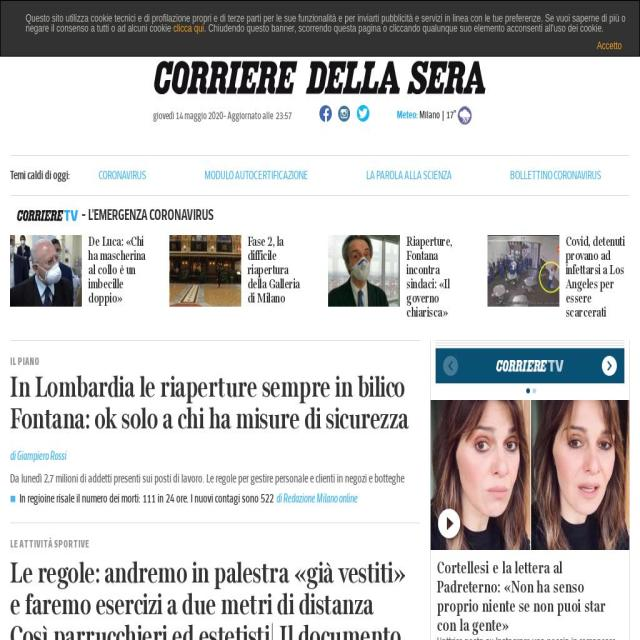button: (430, 400, 630, 550), (146, 59, 494, 101), (328, 235, 401, 307), (10, 235, 82, 307), (169, 235, 241, 307), (487, 235, 559, 307), (10, 492, 358, 506), (204, 167, 309, 184), (509, 167, 602, 184), (366, 167, 452, 184), (151, 0, 184, 34), (88, 0, 116, 34), (312, 7, 362, 26), (380, 7, 423, 26), (99, 167, 147, 184), (252, 7, 294, 26), (635, 400, 640, 550), (557, 7, 592, 26), (202, 7, 234, 26), (27, 7, 52, 26), (442, 7, 466, 26), (592, 39, 626, 52), (501, 7, 524, 26), (627, 7, 640, 25)
heading: (10, 402, 409, 436), (10, 556, 406, 590), (10, 370, 405, 404), (437, 558, 606, 635), (10, 588, 374, 622), (10, 619, 269, 640), (565, 234, 624, 320), (88, 234, 146, 306), (406, 234, 453, 320), (274, 619, 400, 640), (247, 234, 289, 278), (247, 276, 300, 292), (247, 291, 285, 306), (269, 619, 275, 640)
image: (430, 400, 630, 550), (146, 59, 494, 96), (328, 235, 401, 307), (10, 235, 82, 307), (169, 235, 241, 307), (487, 235, 559, 307), (17, 209, 82, 222), (496, 360, 564, 372), (635, 400, 640, 550), (601, 356, 617, 376), (443, 356, 458, 376), (457, 106, 472, 125)
link: (10, 472, 404, 486), (437, 635, 618, 640), (173, 23, 205, 34), (419, 108, 446, 121), (396, 107, 419, 121)
text: (25, 13, 626, 34), (10, 55, 124, 130), (516, 55, 630, 130), (204, 23, 604, 34), (19, 492, 274, 506), (10, 357, 420, 365), (10, 540, 420, 548), (81, 204, 214, 227), (436, 340, 624, 348), (175, 109, 276, 122), (274, 492, 358, 506), (10, 167, 70, 184), (10, 449, 66, 463), (151, 1, 184, 15), (152, 109, 175, 122), (275, 109, 292, 122), (174, 17, 184, 34), (446, 108, 458, 121)
